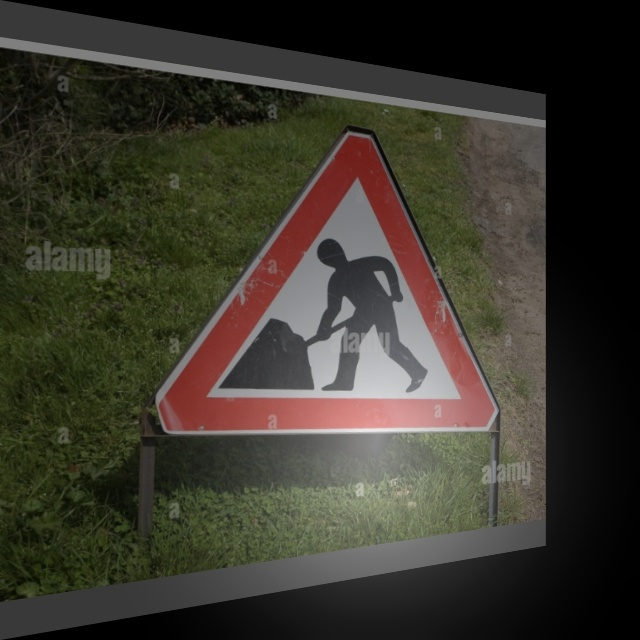Men_at_Work: (146, 101, 507, 458)
